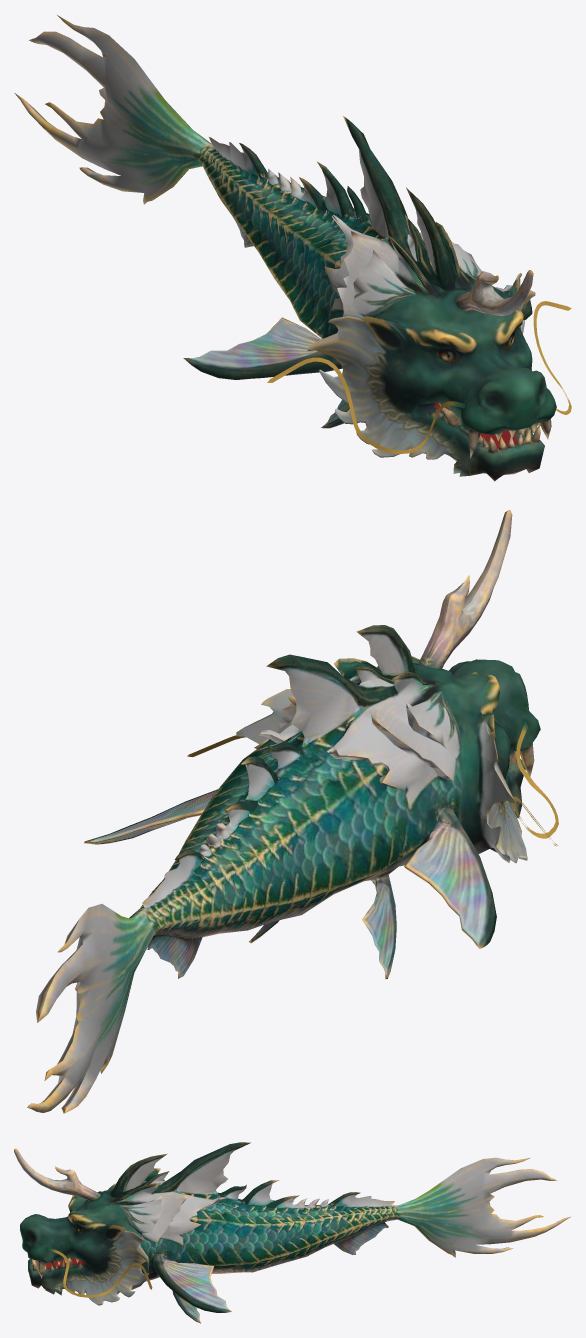
File: 261-chiwen.glb
The picture shows the model from 3 angles, top to bottom: view 1: azimuth 30°, elevation 25°; view 2: azimuth 150°, elevation 25°; view 3: azimuth 270°, elevation 25°; orthographic projection. The views are drawn at different scales.
Size of the model in its own units: 2.51 by 1.95 by 5.97.
Materials: 1 (1 with a texture image).
